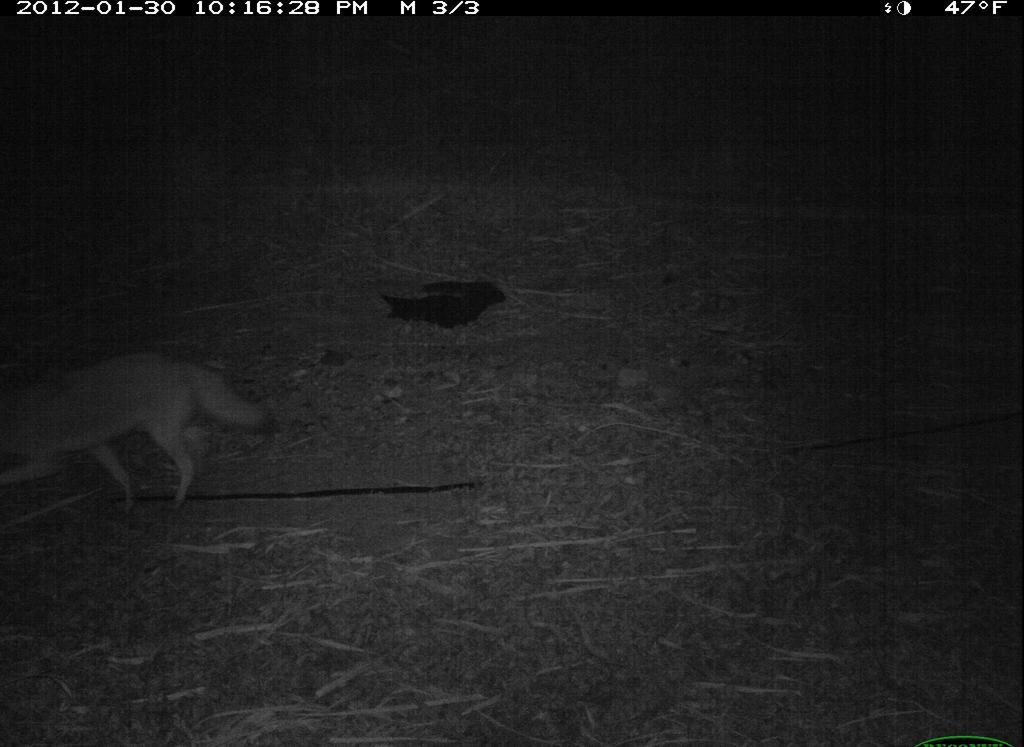coyote: (1, 338, 287, 516)
